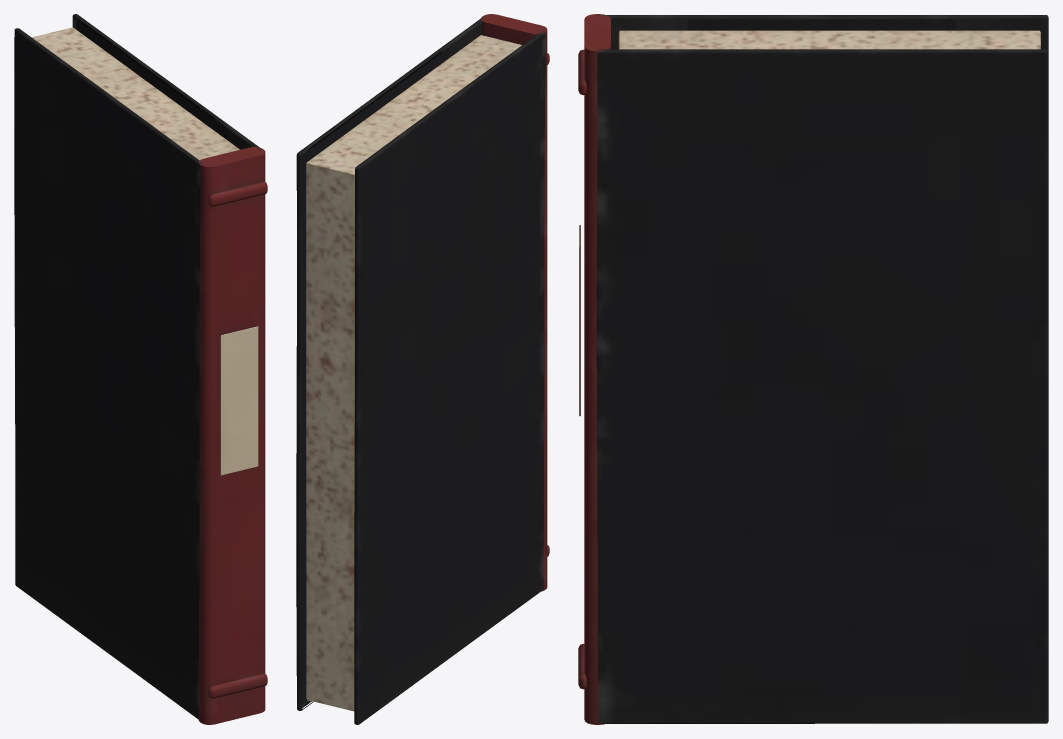
File: ledger-b.glb
3 views of the same model, side by side, from view 1: azimuth 30°, elevation 25°; view 2: azimuth 150°, elevation 25°; view 3: azimuth 270°, elevation 25° (orthographic). The views are drawn at different scales.
Parts seen in each view (by area): view 1: ledger; view 2: ledger; view 3: ledger.
Boxes of the visible parts, x1,y1,x2,y2 form: ledger: (14, 14, 267, 724); ledger: (296, 14, 549, 724); ledger: (578, 14, 1048, 724).
Size of the model in its own units: 0.0405 by 0.338 by 0.2137.
1 material, 1 textured.
